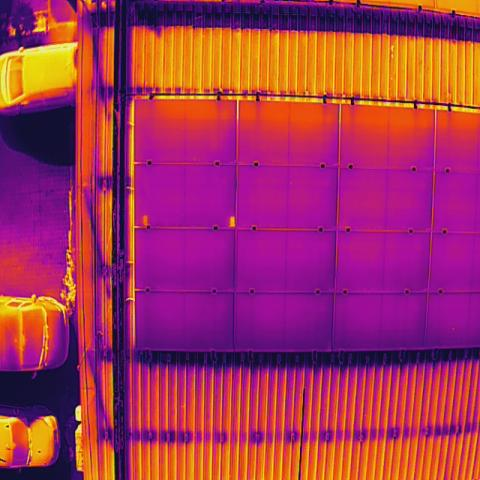fault: (226, 213, 238, 230), (140, 214, 150, 229)
